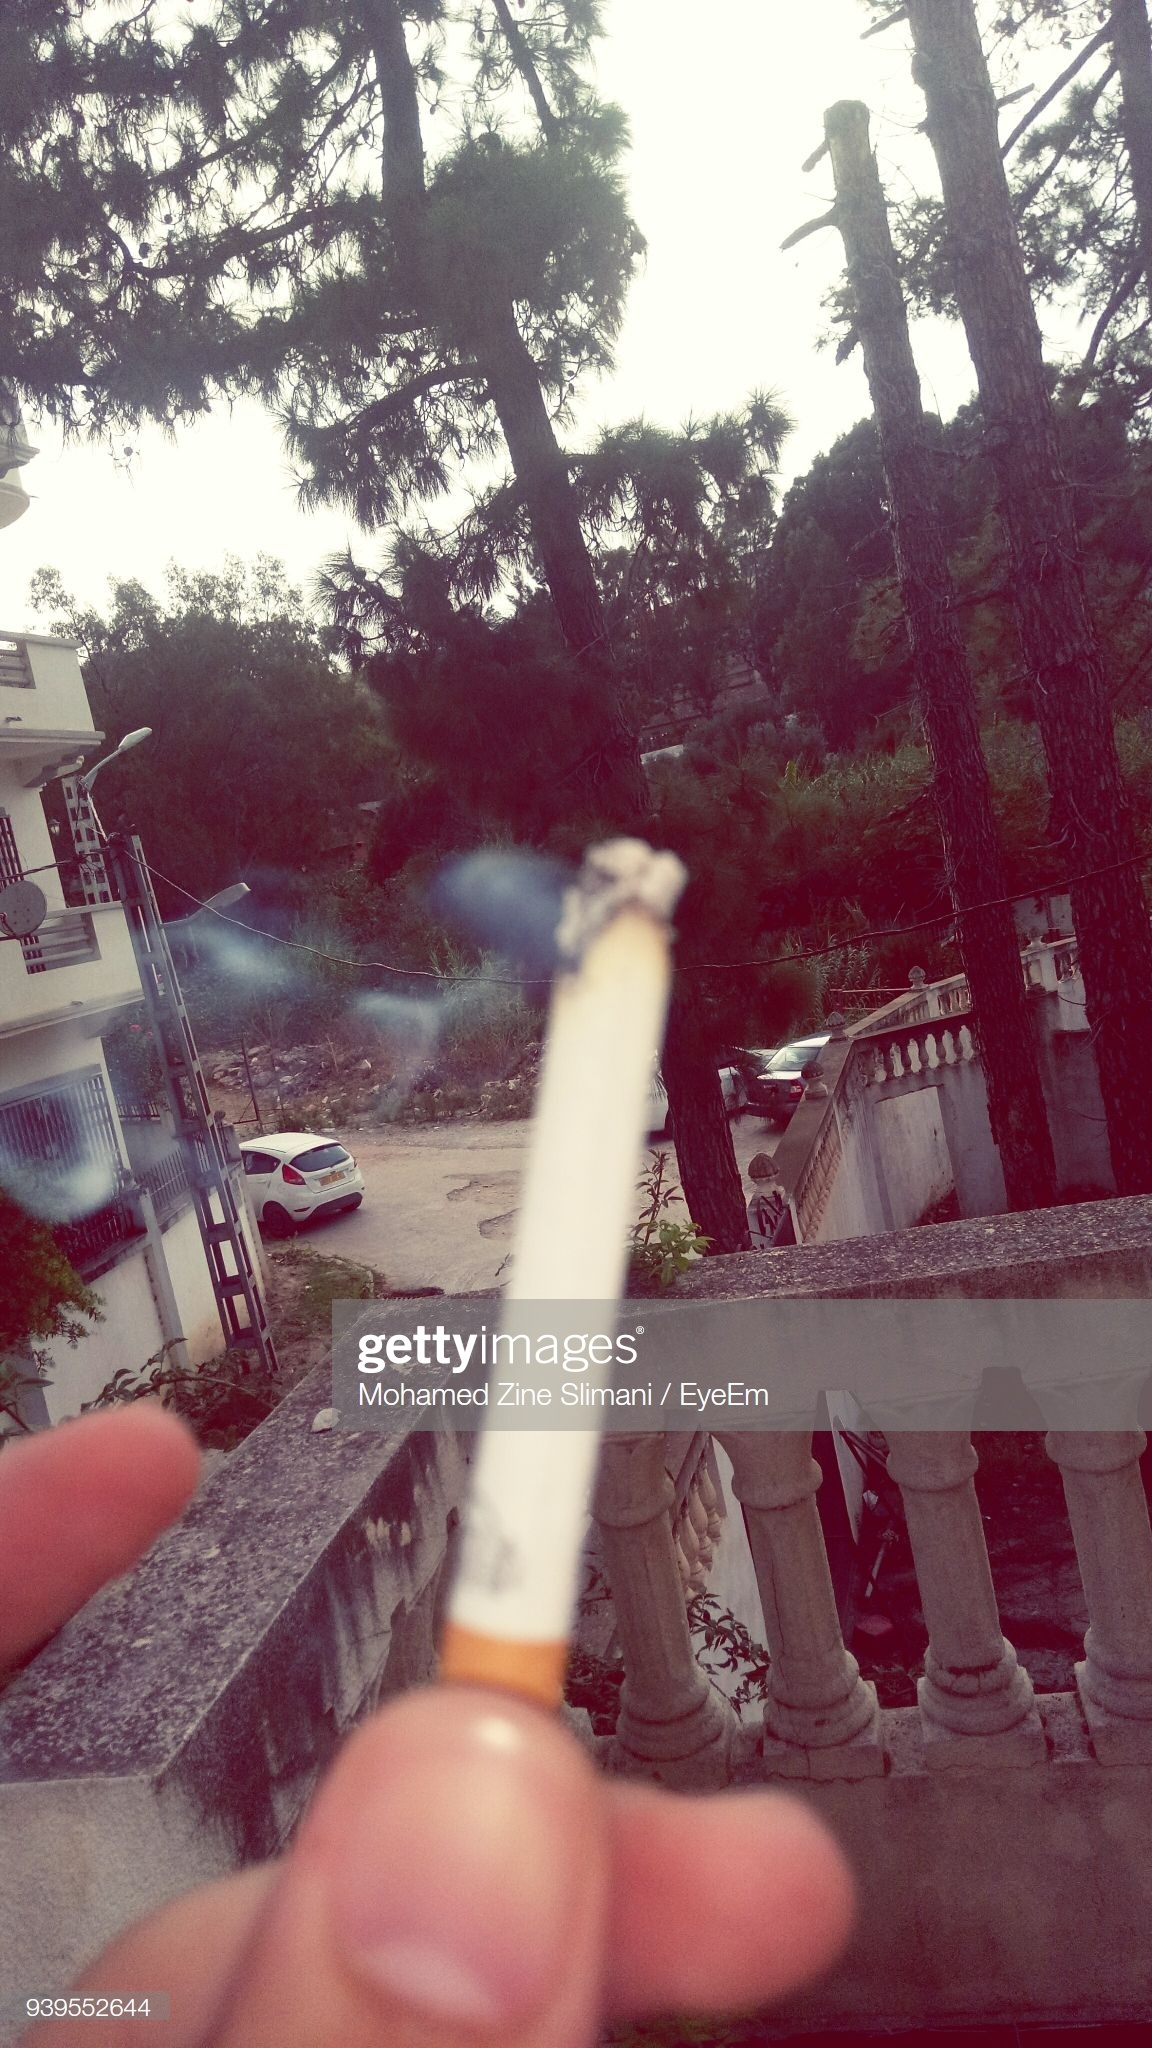sigaretta: (380, 845, 715, 1703)
